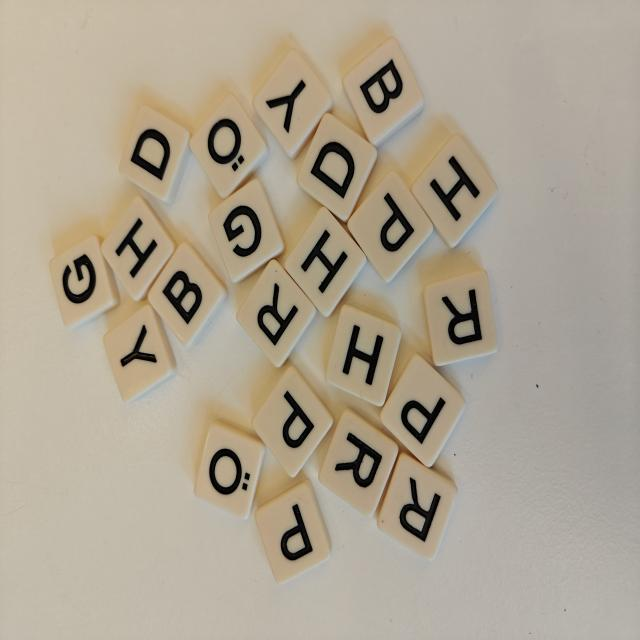b: (343, 38, 424, 147), (148, 242, 227, 346)
d: (297, 114, 377, 222), (120, 105, 190, 204)
g: (209, 179, 284, 282), (50, 236, 119, 327)
h: (411, 134, 497, 248), (285, 207, 367, 317), (325, 305, 401, 406), (102, 197, 175, 300)
o_dot: (190, 94, 268, 198), (194, 422, 266, 519)
p: (380, 354, 465, 467), (348, 171, 433, 283), (252, 366, 333, 477), (255, 480, 331, 582)
r: (377, 452, 457, 559), (237, 259, 316, 367), (319, 409, 398, 516), (424, 269, 497, 366)
y: (253, 49, 333, 159), (104, 305, 176, 401)
